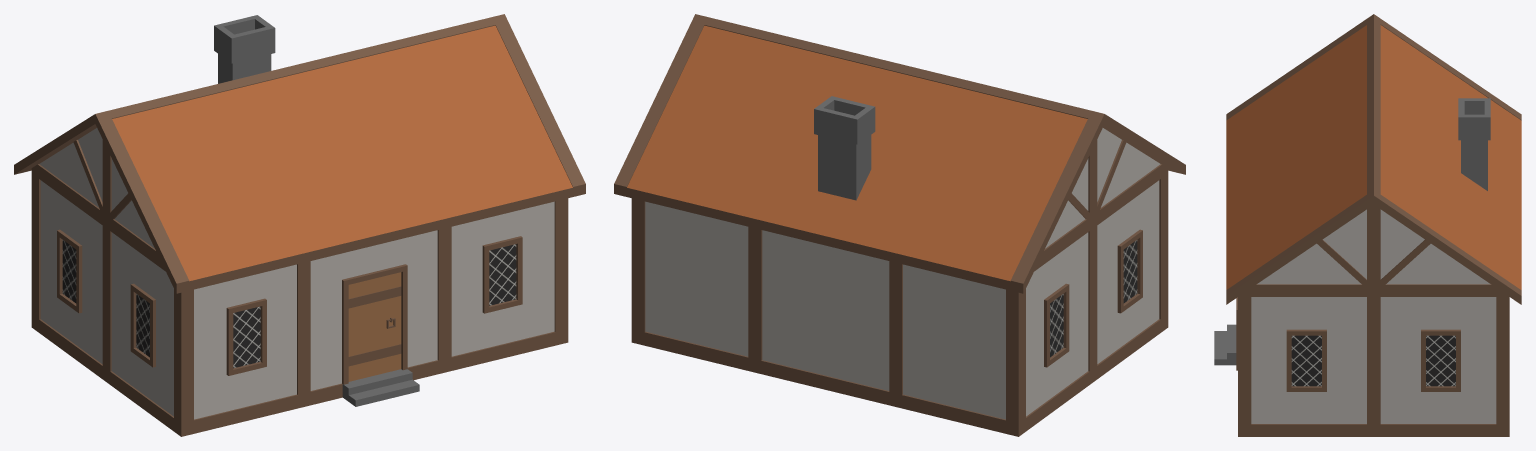
Rendered from SPW_Medieval_Bldg_01.glb.
The picture shows the model from 3 angles, left to right: view 1: azimuth 30°, elevation 25°; view 2: azimuth 150°, elevation 25°; view 3: azimuth 270°, elevation 25°; orthographic projection. The views are drawn at different scales.
Parts seen in each view (by area): view 1: SPW_Medieval_Bldg_01; view 2: SPW_Medieval_Bldg_01; view 3: SPW_Medieval_Bldg_01.
Boxes of the visible parts, <box> form: SPW_Medieval_Bldg_01: <box>14,14,585,436</box>; SPW_Medieval_Bldg_01: <box>614,14,1185,436</box>; SPW_Medieval_Bldg_01: <box>1214,14,1521,436</box>.
Bounding box in the file's own units: 6.4 × 4.05 × 4.57.
Materials: 1 (1 with a texture image).
